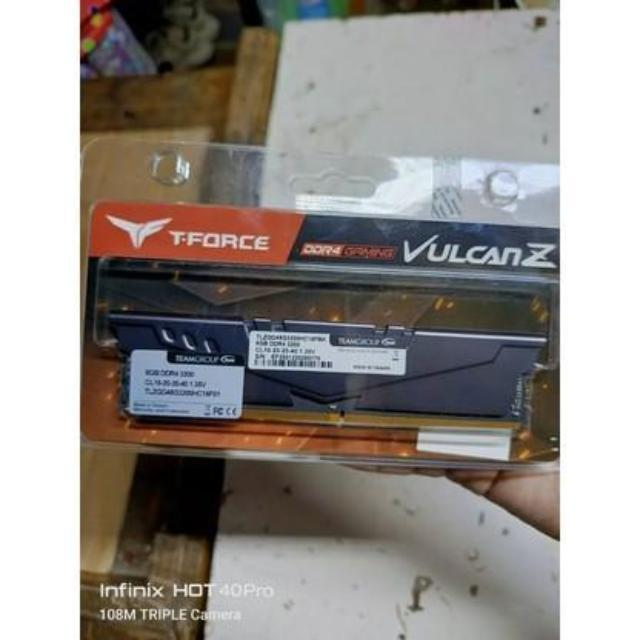RAM: (110, 308, 550, 441)
